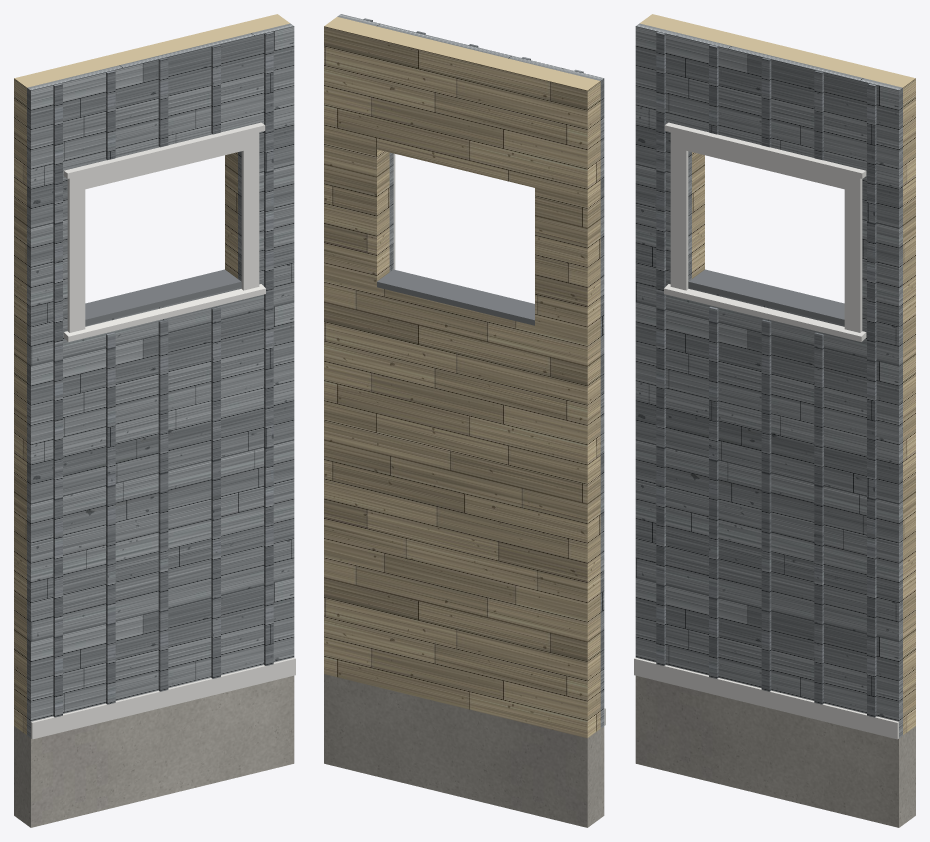
Rendered from m_chute.glb.
3 views of the same model, side by side, from view 1: azimuth 30°, elevation 25°; view 2: azimuth 150°, elevation 25°; view 3: azimuth 330°, elevation 25° (orthographic).
Parts seen in each view (by area): view 1: m_chute_siding, m_chute_batten, m_chute_concrete, m_chute_trim, m_chute_plaster, m_chute_steel_d; view 2: m_chute_plaster, m_chute_concrete, m_chute_siding, m_chute_steel_d; view 3: m_chute_siding, m_chute_batten, m_chute_concrete, m_chute_trim, m_chute_plaster, m_chute_steel_d.
Boxes of the visible parts, bbox=[...] form: m_chute_siding: bbox=[27, 23, 294, 737]; m_chute_batten: bbox=[53, 31, 273, 717]; m_chute_concrete: bbox=[14, 675, 294, 827]; m_chute_trim: bbox=[31, 122, 295, 739]; m_chute_plaster: bbox=[14, 14, 289, 735]; m_chute_steel_d: bbox=[85, 269, 241, 325]; m_chute_plaster: bbox=[324, 17, 600, 738]; m_chute_concrete: bbox=[324, 674, 604, 827]; m_chute_siding: bbox=[337, 14, 604, 728]; m_chute_steel_d: bbox=[377, 269, 534, 325]; m_chute_siding: bbox=[635, 23, 902, 737]; m_chute_batten: bbox=[656, 31, 876, 717]; m_chute_concrete: bbox=[635, 675, 915, 827]; m_chute_trim: bbox=[634, 122, 898, 739]; m_chute_plaster: bbox=[640, 14, 915, 735]; m_chute_steel_d: bbox=[688, 269, 844, 325].
Bounding box in the file's own units: 2 × 5.35 × 0.28.
Materials: 6 (4 with a texture image).
